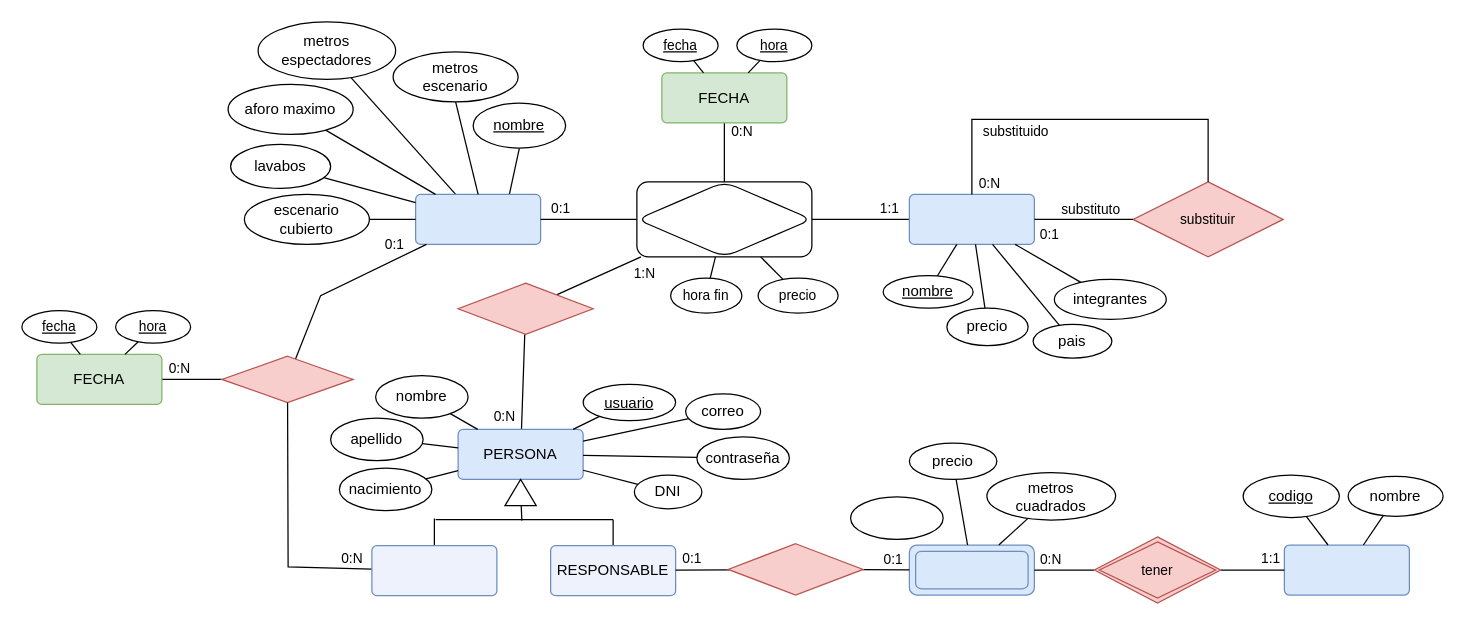
Image size: 1465x625. Some labels were removed from this diagram. The box of each missing label's shape, as (x1, y1, x2, y2) in pixels:
acceder: (221, 355, 353, 402)
alquilar: (727, 542, 863, 595)
ASISTENTE: (371, 544, 497, 596)
asistir: (457, 282, 593, 334)
CALLE: (1283, 544, 1409, 595)
GRUPO: (908, 193, 1034, 244)
numero: (849, 496, 943, 539)
organiza concierto: (636, 181, 812, 257)
PARCELA: (908, 544, 1034, 595)
RECINTO: (414, 193, 541, 244)
